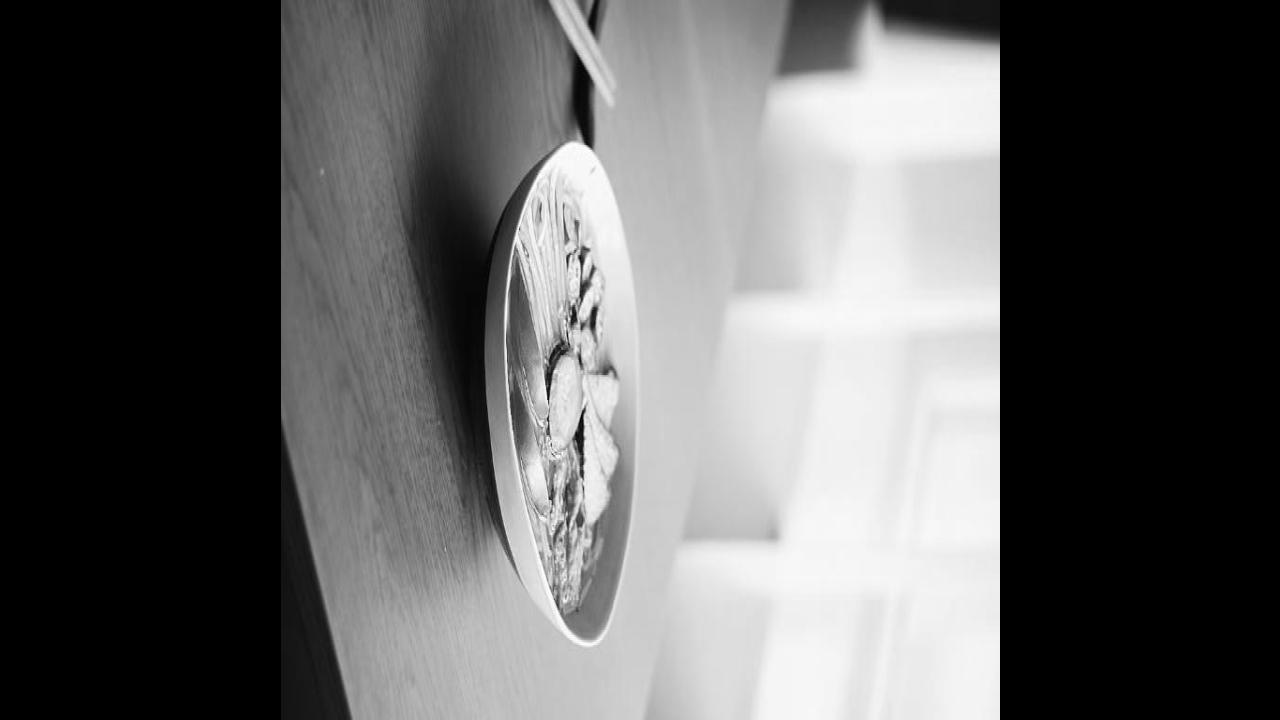chopstick: (453, 0, 617, 107)
